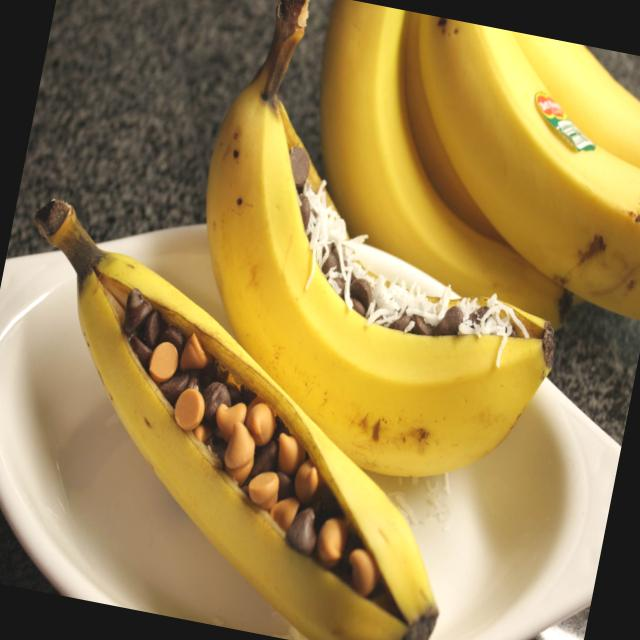banana: (141, 58, 575, 499), (11, 245, 492, 640), (269, 0, 640, 356), (358, 11, 640, 335)
